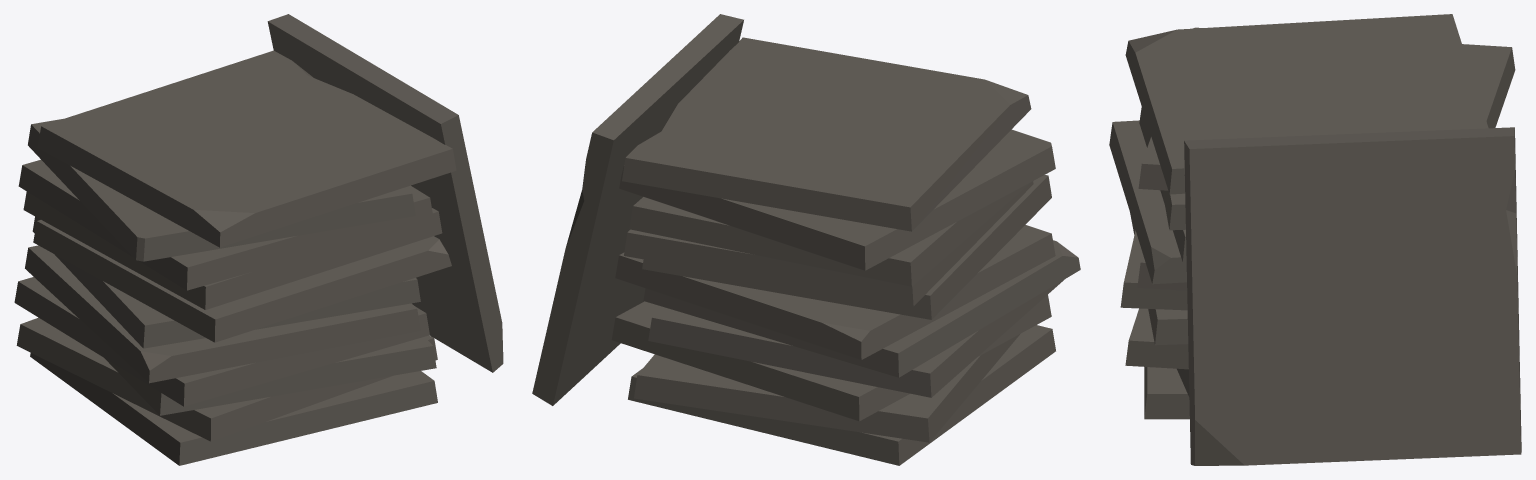
File: SM_Prop_Tile_Stack_01.fbx
3 renders of one model, left to right at view 1: azimuth 30°, elevation 25°; view 2: azimuth 150°, elevation 25°; view 3: azimuth 270°, elevation 25°, orthographic. The views are drawn at different scales.
Visible parts, largest first — view 1: SM_Prop_Tile_Stack_01; view 2: SM_Prop_Tile_Stack_01; view 3: SM_Prop_Tile_Stack_01.
Part boxes in pixels (x1,y1,x2,y2): SM_Prop_Tile_Stack_01: (14,14,503,465); SM_Prop_Tile_Stack_01: (532,14,1080,465); SM_Prop_Tile_Stack_01: (1109,14,1521,465).
Bounding box in the file's own units: 72.88 × 49.27 × 62.04.
